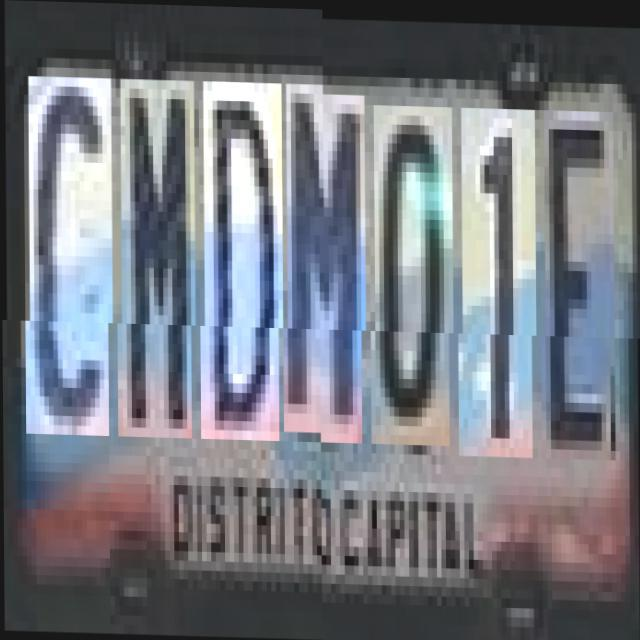1: (461, 104, 537, 454)
C: (28, 86, 113, 444)
D: (202, 90, 284, 448)
E: (544, 106, 615, 456)
M: (286, 91, 366, 442), (120, 88, 196, 446)
O: (374, 102, 454, 444)
